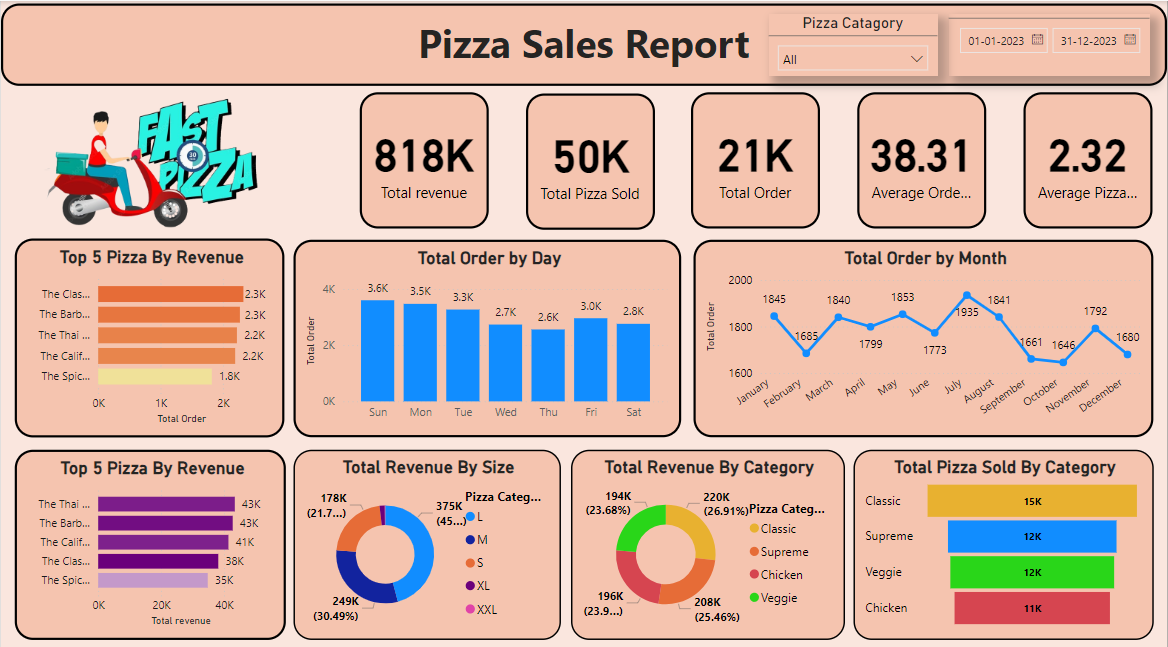

Layout of this report page (visuals, bound fields, positions):
{"tool":"powerbi","page":{"name":"Page 1","canvas":[1280,720],"ordinal":0},"visuals":[{"type":"card","fields":{"Values":["pizza_sales.Total Pizza Sold"]},"box":[576.3,101.5,141.3,149.6],"z":0},{"type":"card","fields":{"Values":["pizza_sales.Average Order Value"]},"box":[940,100.2,141.3,149.6],"z":1000},{"type":"card","fields":{"Values":["pizza_sales.Average Pizza Per Order"]},"box":[1122.5,100.2,141.3,149.6],"z":2000},{"type":"card","fields":{"Values":["pizza_sales.Total Order"]},"box":[757.5,100.2,141.3,149.6],"z":3000},{"type":"card","fields":{"Values":["pizza_sales.Total revenue"]},"box":[393.8,100.2,141.3,149.6],"z":4000},{"type":"donutChart","title":"Total Revenue By Category","fields":{"Category":["pizza_sales.pizza_category"],"Y":["pizza_sales.Total revenue"]},"box":[625.7,492.6,300.5,208.6],"z":5000},{"type":"funnel","title":"Total Pizza Sold By Category","fields":{"Category":["pizza_sales.pizza_category"],"Y":["pizza_sales.Total Pizza Sold"]},"box":[935.9,492.6,329.3,208.6],"z":6000},{"type":"lineChart","fields":{"Category":["pizza_sales.order_date.Variation.Date Hierarchy.Month"],"Y":["pizza_sales.Total Order"]},"box":[760.2,262.1,505,216.8],"z":7000},{"type":"textbox","box":[0,2.7,1280.3,90.6],"z":8000},{"type":"slicer","title":"Pizza Catagory","fields":{"Values":["pizza_sales.pizza_category"]},"box":[842.5,13.7,185.2,68.6],"z":9000},{"type":"slicer","fields":{"Values":["pizza_sales.order_date"]},"box":[1040.1,13.7,220.9,68.6],"z":10000},{"type":"donutChart","title":"Total Revenue By Size","fields":{"Y":["pizza_sales.Total revenue"],"Category":["pizza_sales.pizza_size"]},"box":[321.1,492.6,293.7,208.6],"z":11000},{"type":"columnChart","title":"Total Order by Day","fields":{"Category":["pizza_sales.DayName"],"Y":["pizza_sales.Total Order"]},"box":[321.1,262.1,425.4,216.8],"z":12000},{"type":"barChart","title":"Top 5 Pizza By Revenue","fields":{"Category":["pizza_sales.pizza_name"],"Y":["pizza_sales.Total revenue"]},"box":[15.1,492.6,297.8,208.6],"z":13000},{"type":"barChart","title":"Top 5 Pizza By Revenue","fields":{"Category":["pizza_sales.pizza_name"],"Y":["pizza_sales.Total Order"]},"box":[15.1,260.7,296.4,218.2],"z":14000},{"type":"image","box":[5.5,93.3,296.4,168.8],"z":14001}]}

Visuals, with their boxes in screenshot pixels (x1, y1, x2, y2), scaled from the page's 1280x720 canvas onto the 1168x647 screenshot:
card - pizza_sales.Total Pizza Sold: box=[526, 91, 655, 226]
card - pizza_sales.Average Order Value: box=[858, 90, 987, 224]
card - pizza_sales.Average Pizza Per Order: box=[1024, 90, 1153, 224]
card - pizza_sales.Total Order: box=[691, 90, 820, 224]
card - pizza_sales.Total revenue: box=[359, 90, 488, 224]
"Total Revenue By Category" donutChart: box=[571, 443, 845, 630]
"Total Pizza Sold By Category" funnel: box=[854, 443, 1154, 630]
lineChart - pizza_sales.order_date.Variation.Date Hierarchy.Month x pizza_sales.Total Order: box=[694, 236, 1154, 430]
textbox: box=[0, 2, 1167, 84]
"Pizza Catagory" slicer: box=[769, 12, 938, 74]
slicer - pizza_sales.order_date: box=[949, 12, 1151, 74]
"Total Revenue By Size" donutChart: box=[293, 443, 561, 630]
"Total Order by Day" columnChart: box=[293, 236, 681, 430]
"Top 5 Pizza By Revenue" barChart: box=[14, 443, 286, 630]
"Top 5 Pizza By Revenue" barChart: box=[14, 234, 284, 430]
image: box=[5, 84, 275, 236]
